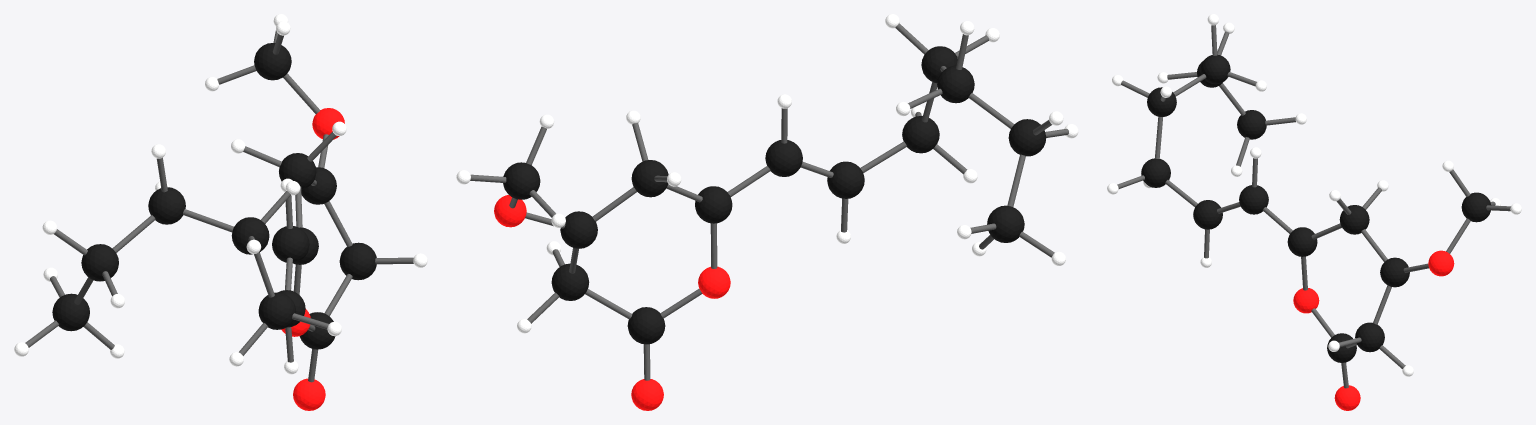
The model's file is molecule.glb.
3 views of the same model, side by side, from view 1: azimuth 30°, elevation 25°; view 2: azimuth 150°, elevation 25°; view 3: azimuth 270°, elevation 25° (orthographic). The views are drawn at different scales.
Visible parts, largest first — view 1: geometry_8, geometry_15, geometry_6, geometry_4, geometry_9, geometry_14, geometry_10, geometry_11, geometry_7, geometry_12, geometry_0, geometry_1 (+2 smaller); view 2: geometry_1, geometry_4, geometry_5, geometry_12, geometry_3, geometry_6, geometry_14, geometry_8, geometry_10, geometry_15, geometry_9, geometry_11 (+4 smaller); view 3: geometry_4, geometry_3, geometry_10, geometry_5, geometry_6, geometry_8, geometry_12, geometry_14, geometry_15, geometry_11, geometry_7, geometry_13 (+3 smaller).
Boxes of the visible parts, x1,y1,x2,y2 form: geometry_8: (148,187,185,224); geometry_15: (339,242,376,280); geometry_6: (258,292,296,329); geometry_4: (272,226,309,262); geometry_9: (81,244,118,281); geometry_14: (254,43,291,80); geometry_10: (52,293,89,331); geometry_11: (279,153,316,189); geometry_7: (231,217,269,254); geometry_12: (301,167,336,204); geometry_0: (293,378,325,410); geometry_1: (299,312,335,349); geometry_1: (627,307,665,344); geometry_4: (765,140,802,176); geometry_5: (827,161,864,198); geometry_12: (560,211,597,248); geometry_3: (695,186,732,223); geometry_6: (902,116,939,153); geometry_14: (503,162,540,199); geometry_8: (937,66,974,103); geometry_10: (987,205,1024,242); geometry_15: (551,263,589,300); geometry_9: (1008,119,1046,156); geometry_11: (631,160,668,197); geometry_4: (1239,185,1268,214); geometry_3: (1287,227,1317,256); geometry_10: (1237,110,1266,139); geometry_5: (1193,200,1222,229); geometry_6: (1141,158,1170,187); geometry_8: (1200,54,1230,84); geometry_12: (1380,257,1409,287); geometry_14: (1461,192,1491,222); geometry_15: (1355,322,1384,352); geometry_11: (1339,205,1369,234); geometry_7: (1147,87,1176,116); geometry_13: (1428,250,1454,276).
Bounding box in the file's own units: 0.257 × 0.2029 × 0.2506.
